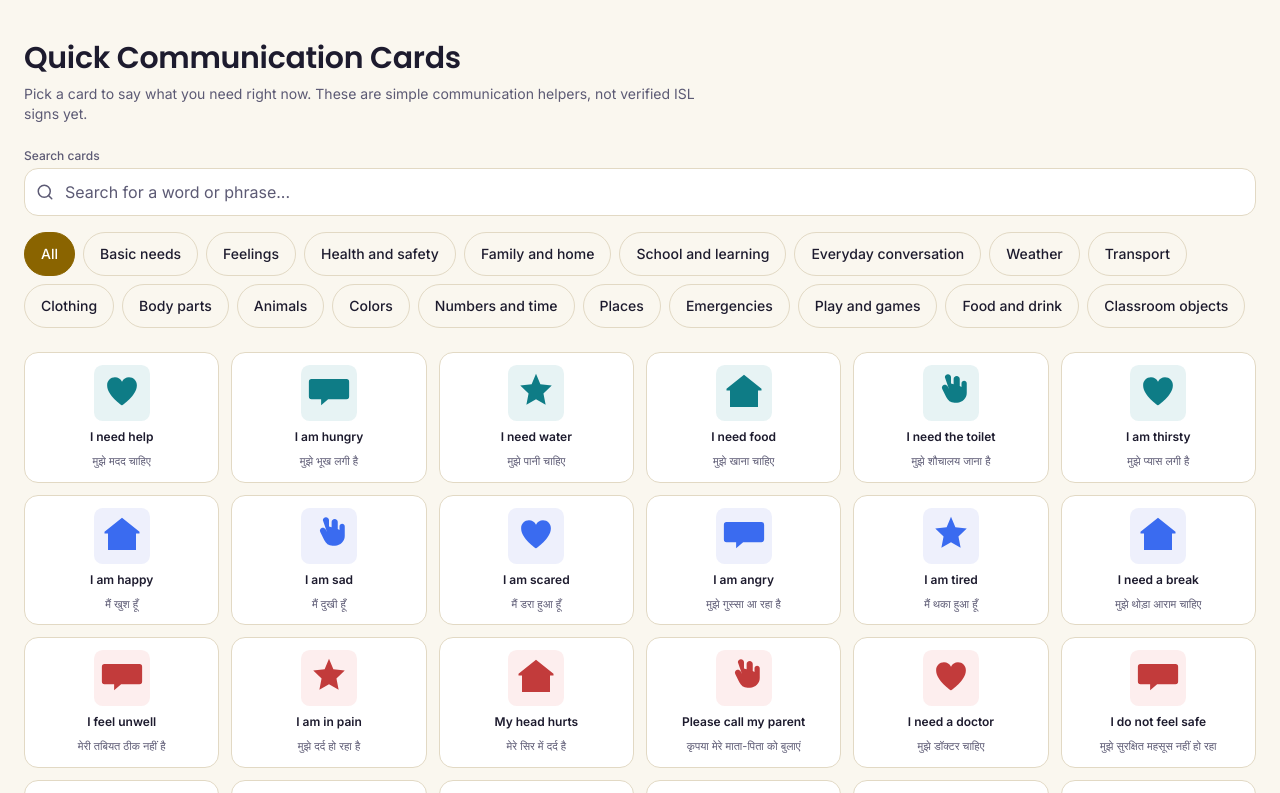
Scenario: CardsClient › expanding a related-lesson link shows the honest "not a direct demonstration" framing and a real video
The width and height of the screenshot is (1280, 793).
Type "Hello!" into the field labelled "Search cards" at (640, 192), box [24,168,1256,216]
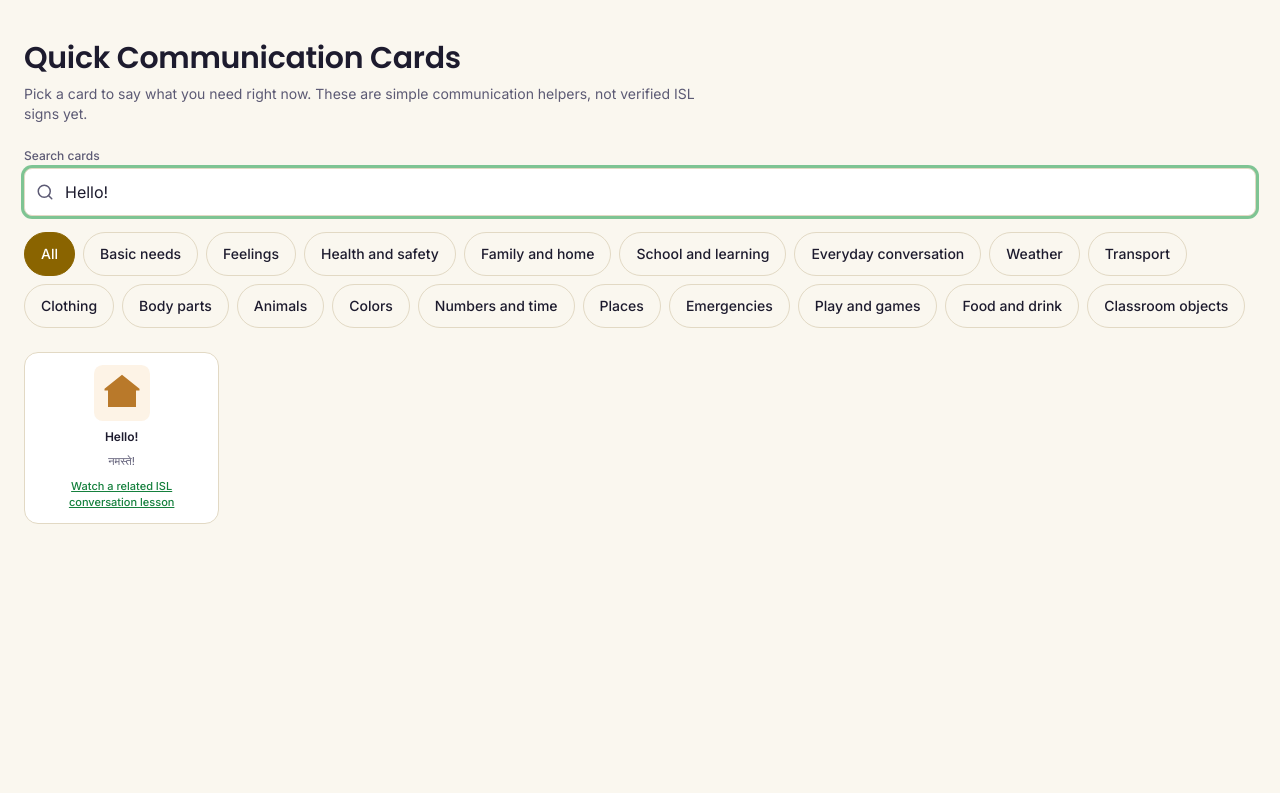
Click the button "Watch a related ISL conversation lesson" at (122, 494), box [37,478,206,510]
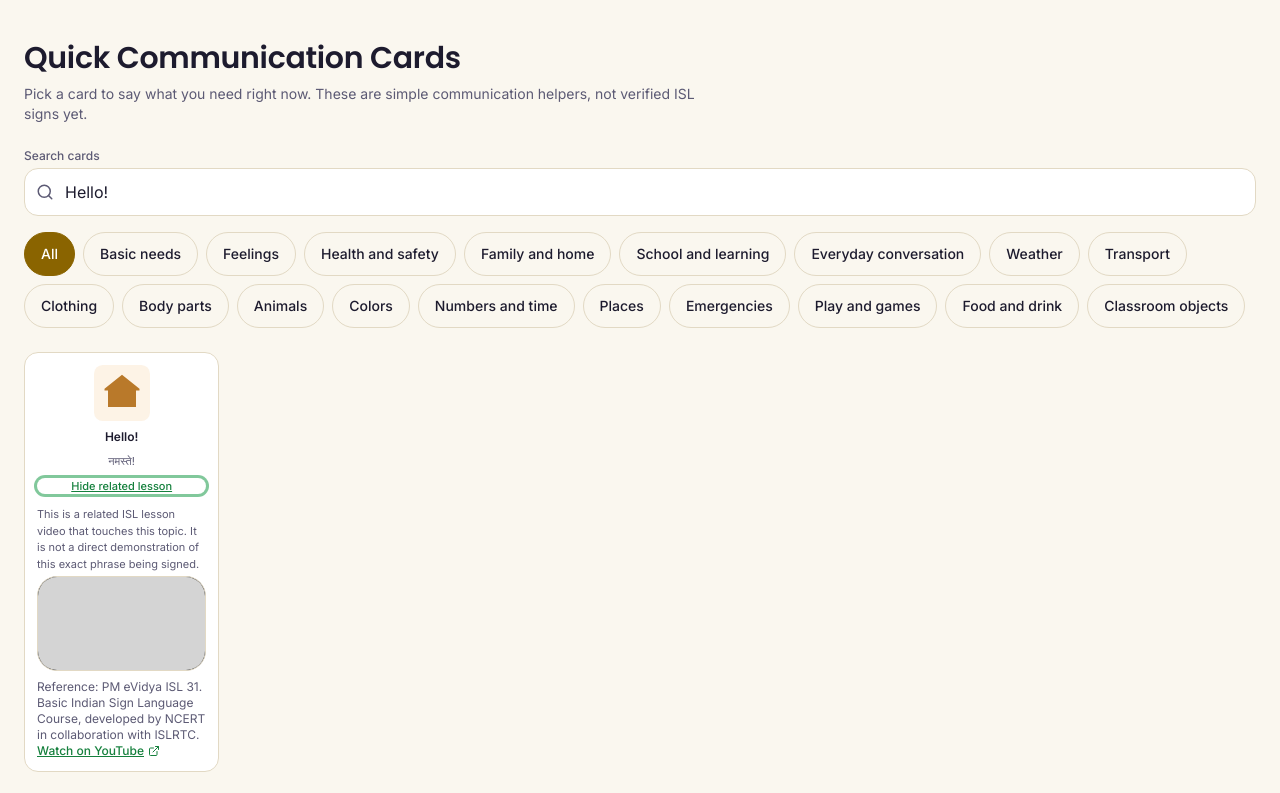
Expected: the text "not a direct demonstration" is shown, [37,507,199,570]
Expected: the button "Hide related lesson" is shown, [37,478,206,494]
